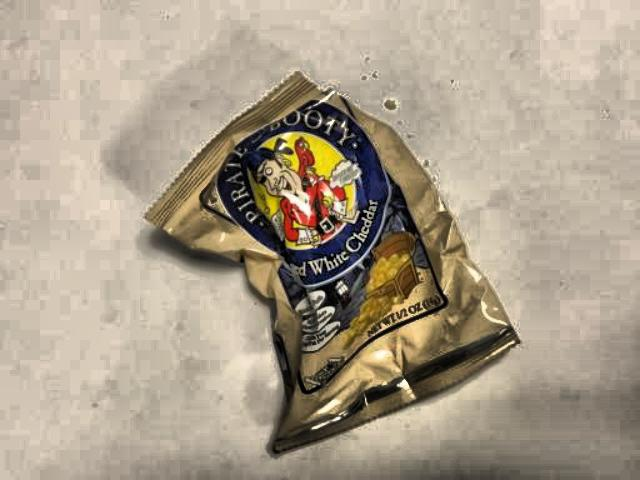Plastic: (161, 68, 508, 460)
